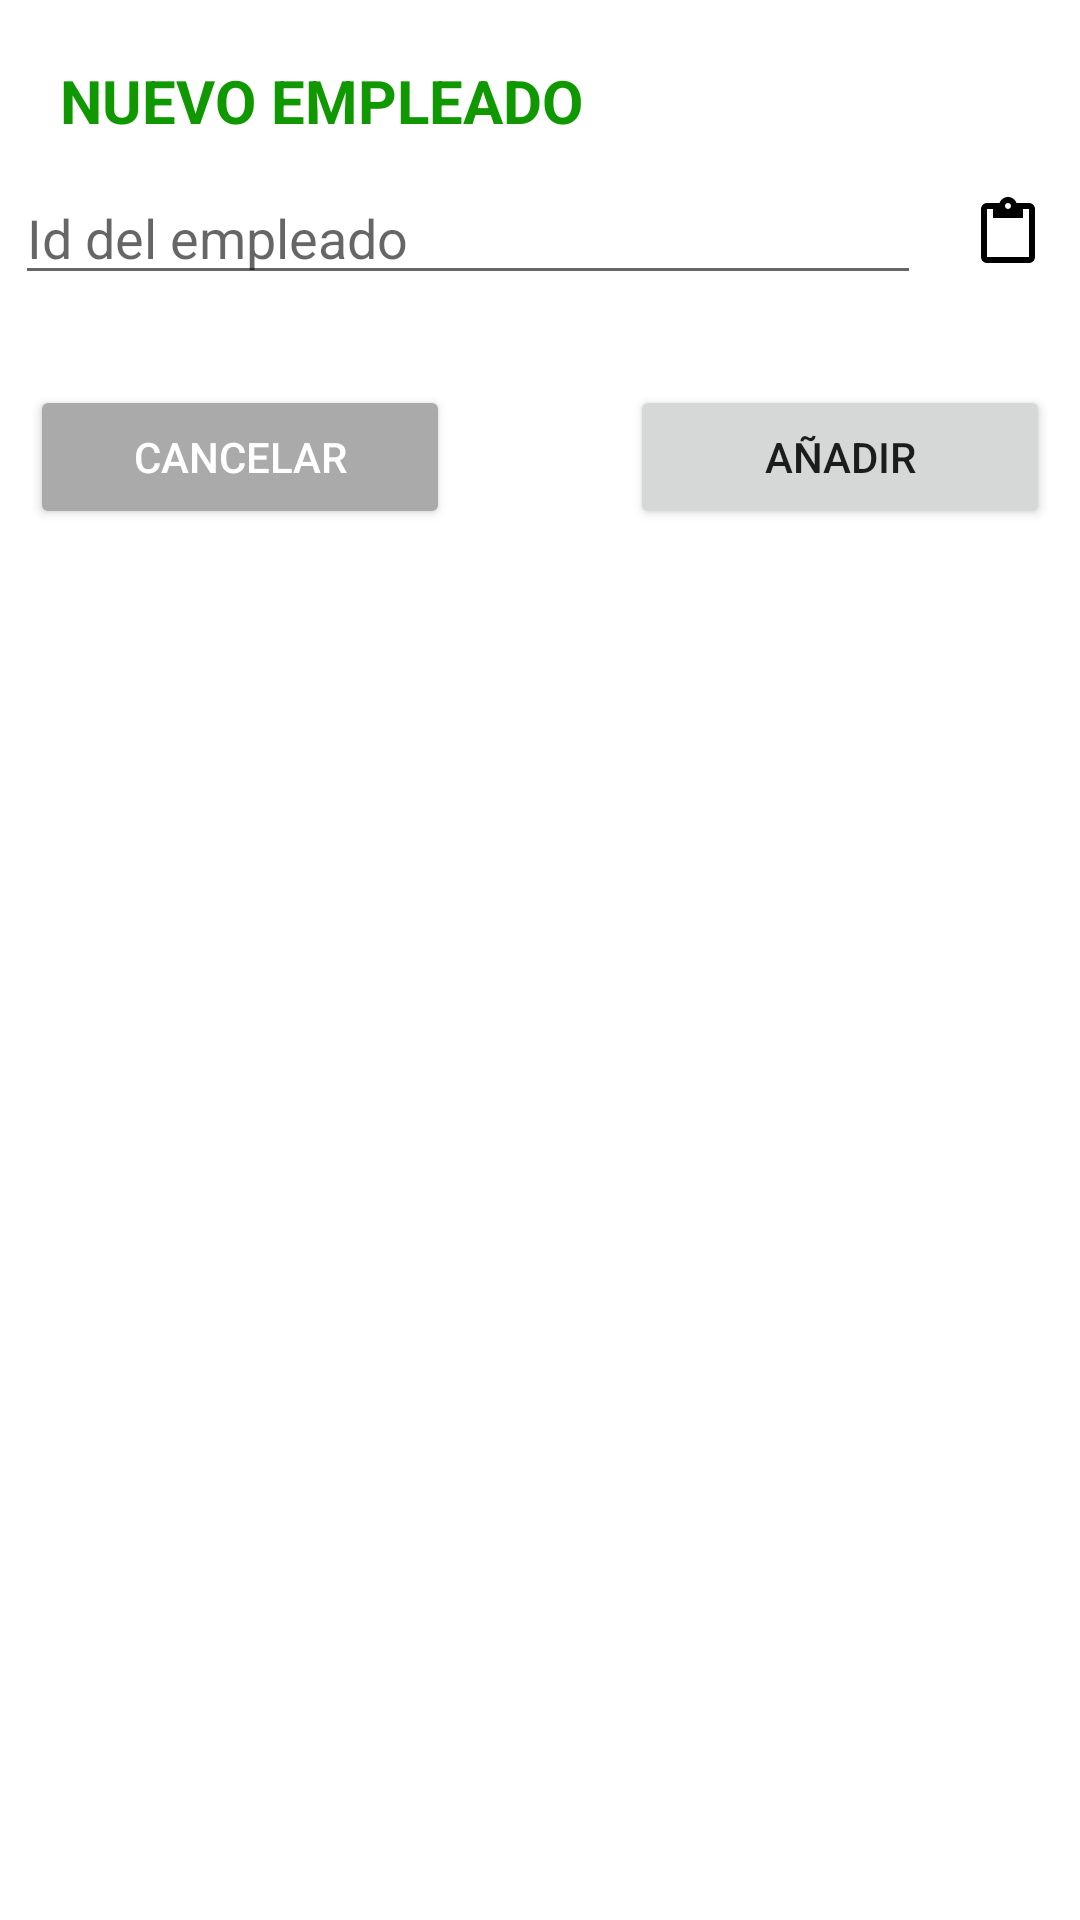

Icons on this 1080w x 1920h Android screen, each with the point to tap as point (x, y):
paste: point (1008, 230)
